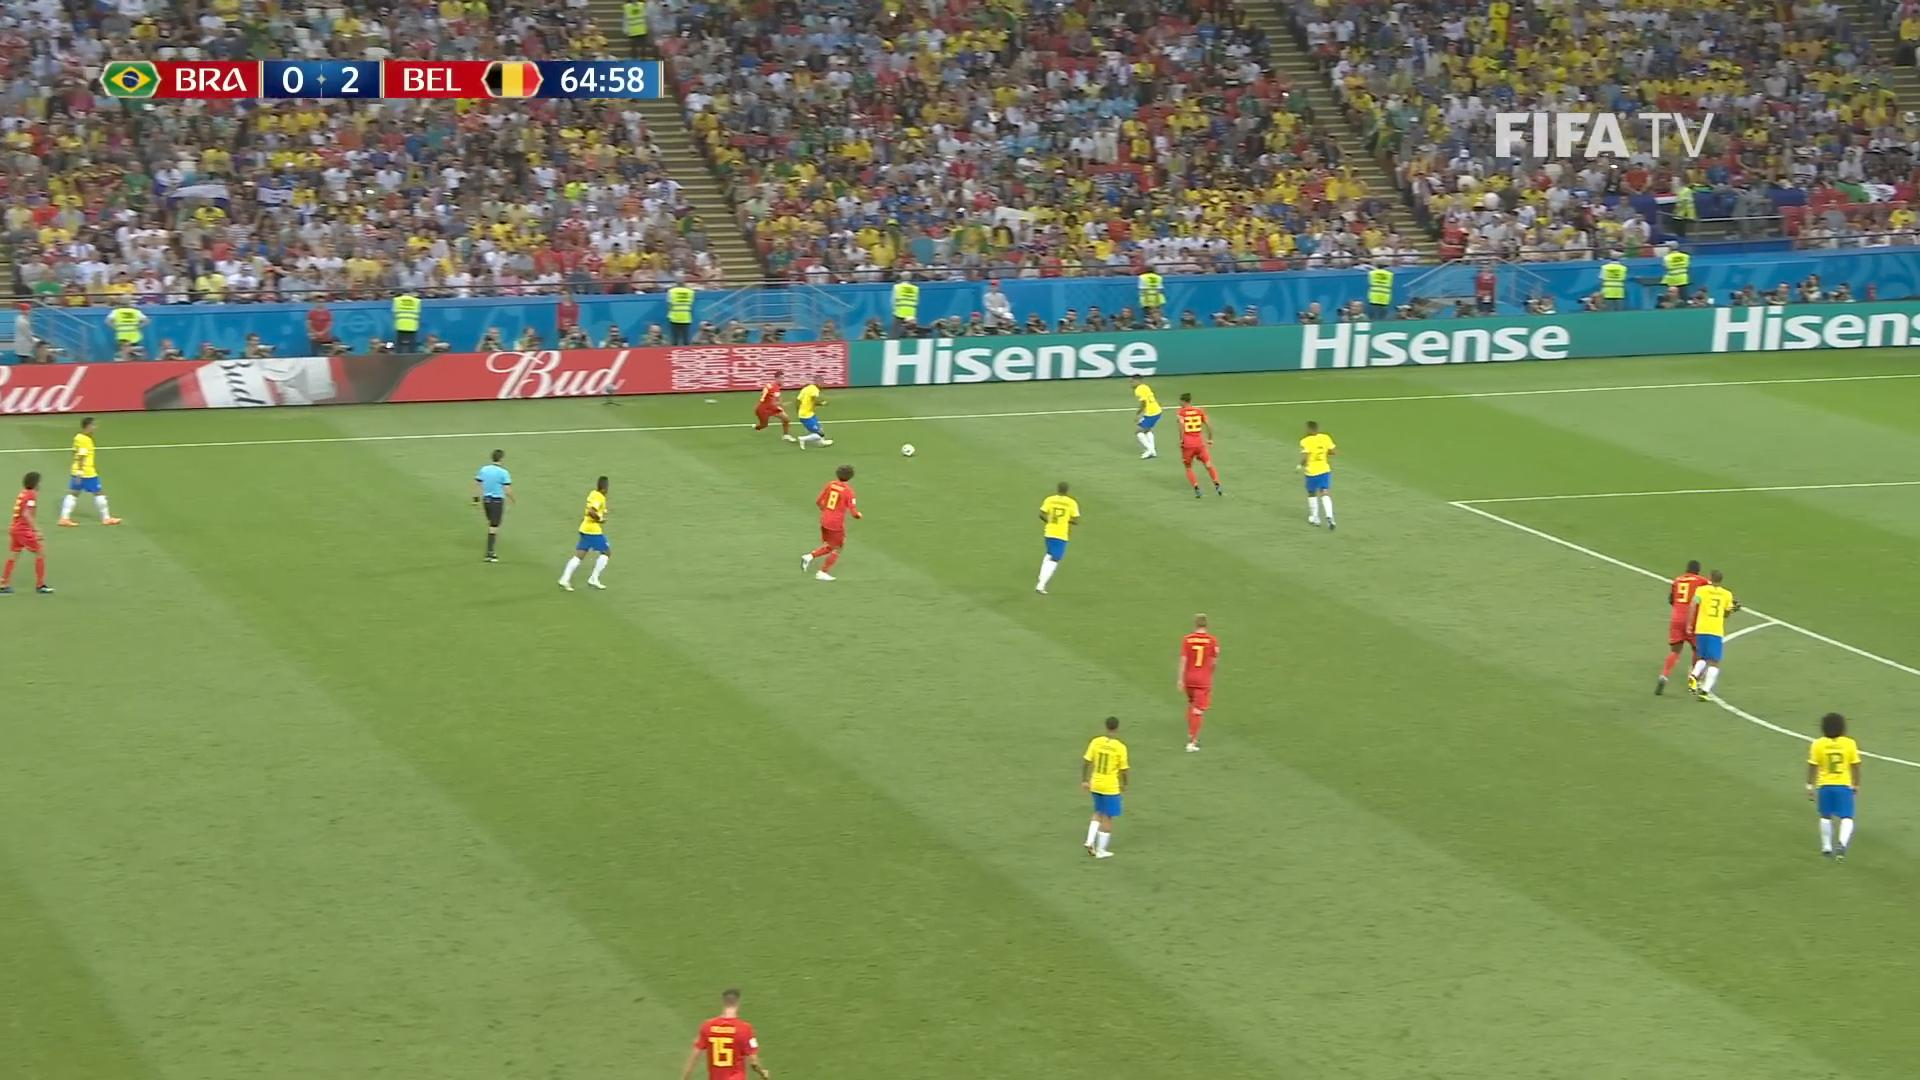ball: (902, 442, 915, 458)
player: (1804, 711, 1861, 859), (679, 987, 769, 1078), (1653, 558, 1709, 696), (1683, 567, 1740, 700), (799, 464, 862, 581), (56, 415, 121, 526), (1079, 715, 1129, 858), (0, 470, 55, 594), (556, 475, 611, 591), (1176, 612, 1219, 752), (1033, 479, 1080, 595), (1174, 391, 1223, 499), (1295, 419, 1338, 530), (751, 371, 795, 442), (793, 377, 833, 448), (1129, 373, 1161, 459)
referee: (471, 447, 515, 563)
